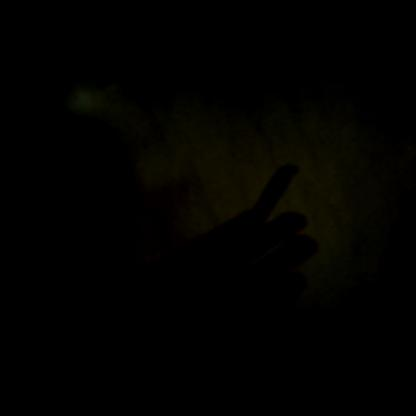Pen: (167, 157, 302, 325)
